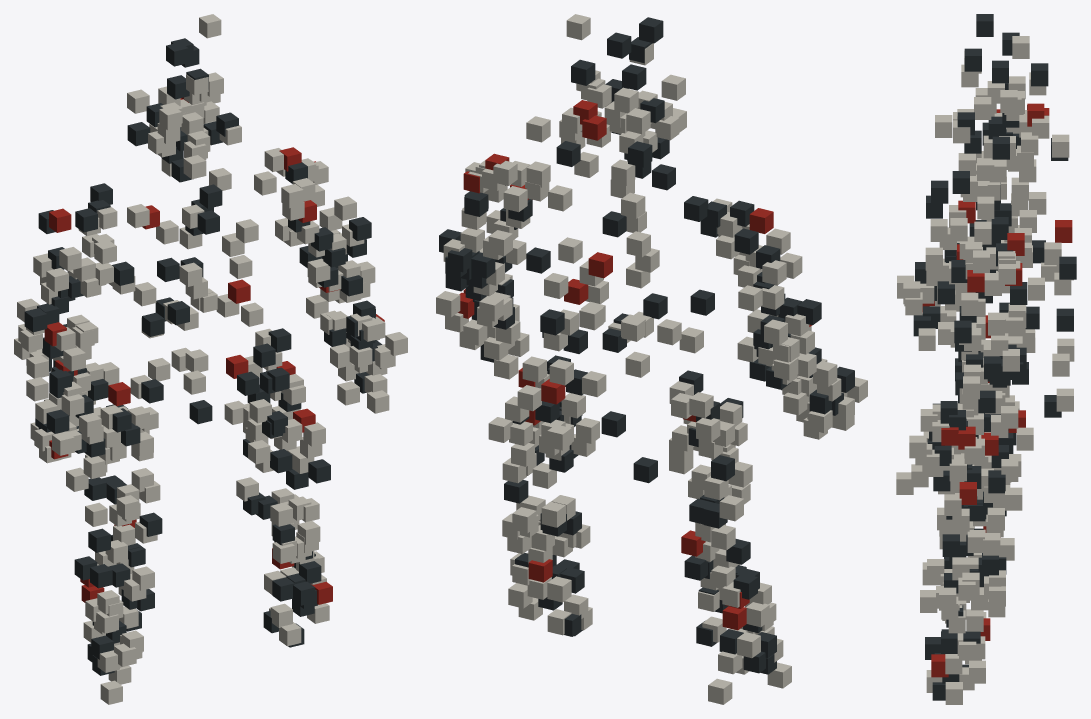
3 views of the same model, side by side, from view 1: azimuth 30°, elevation 25°; view 2: azimuth 150°, elevation 25°; view 3: azimuth 270°, elevation 25° (orthographic). The views are drawn at different scales.
Parts seen in each view (by area): view 1: nanite-mech-painted; view 2: nanite-mech-painted; view 3: nanite-mech-painted.
Boxes of the visible parts, <box> form: nanite-mech-painted: <box>14,14,407,704</box>; nanite-mech-painted: <box>436,14,867,704</box>; nanite-mech-painted: <box>896,14,1076,704</box>.
Size of the model in its own units: 6.01 by 10 by 2.52.
